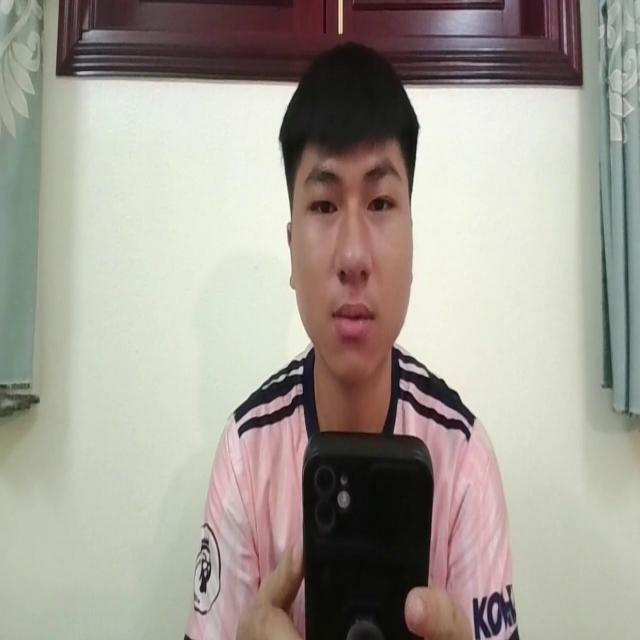phone: (301, 421, 433, 640)
student: (196, 50, 519, 640)
